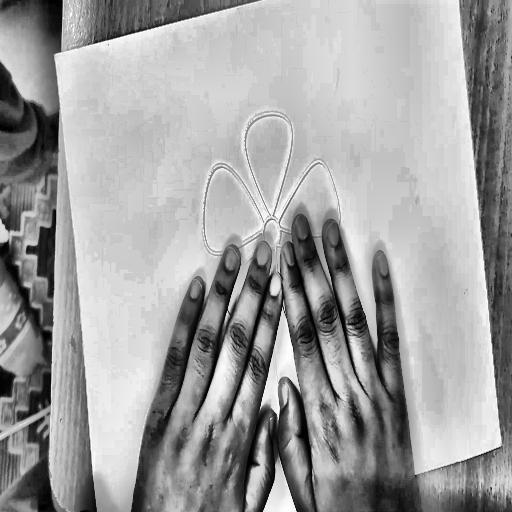bottom_right: (497, 436, 506, 452)
flower: (184, 84, 379, 493)
top_left: (51, 49, 59, 63)
